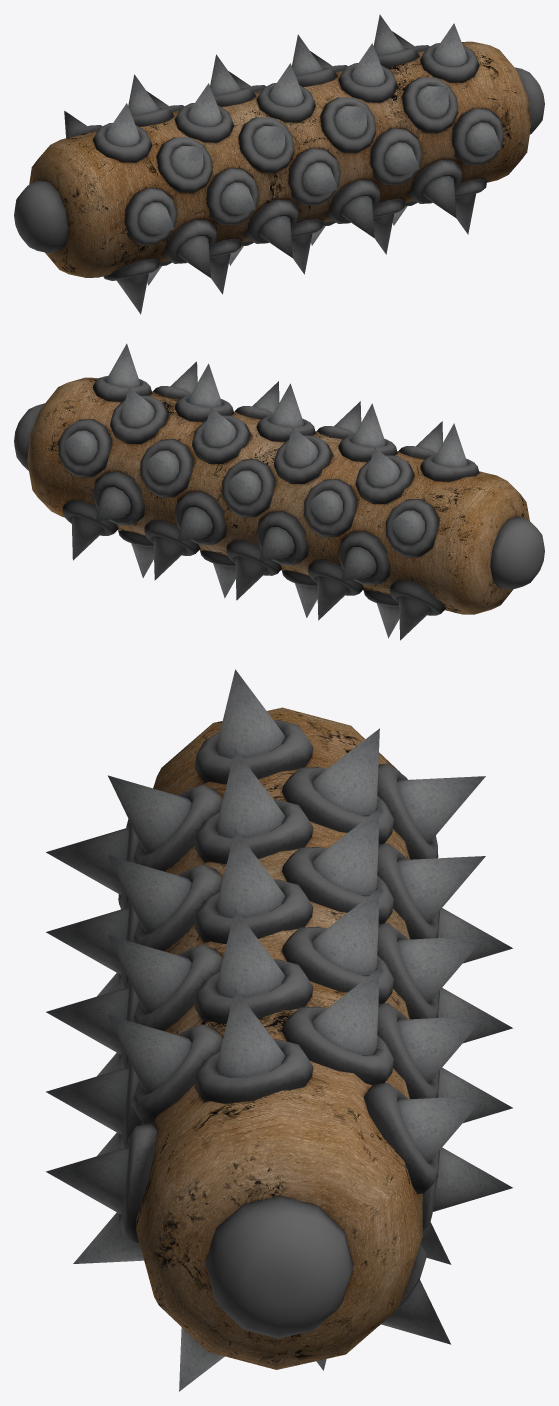
File: Obstacle-9.fbx
3 views of the same model, one above another, from view 1: azimuth 30°, elevation 25°; view 2: azimuth 150°, elevation 25°; view 3: azimuth 270°, elevation 25° (orthographic). The views are drawn at different scales.
Parts seen in each view (by area): view 1: Obstacle-9; view 2: Obstacle-9; view 3: Obstacle-9.
Boxes of the visible parts, x1,y1,x2,y2 form: Obstacle-9: [14, 14, 544, 314]; Obstacle-9: [14, 343, 544, 640]; Obstacle-9: [46, 669, 512, 1391].
Size of the model in its own units: 1.69 by 0.6562 by 0.6628.
